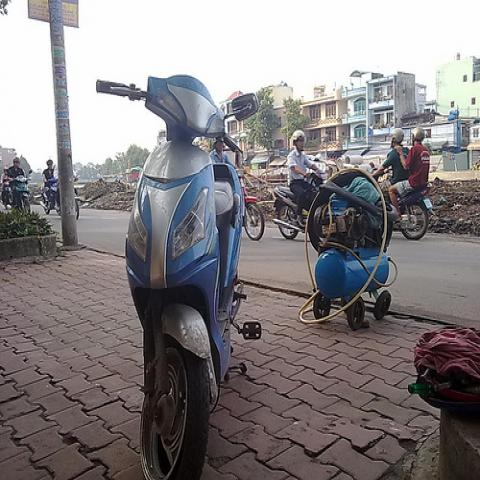motorcycle: (92, 72, 269, 472), (368, 167, 436, 242), (272, 169, 328, 240), (237, 162, 265, 241), (13, 168, 34, 214), (38, 178, 60, 213), (1, 179, 12, 212)
